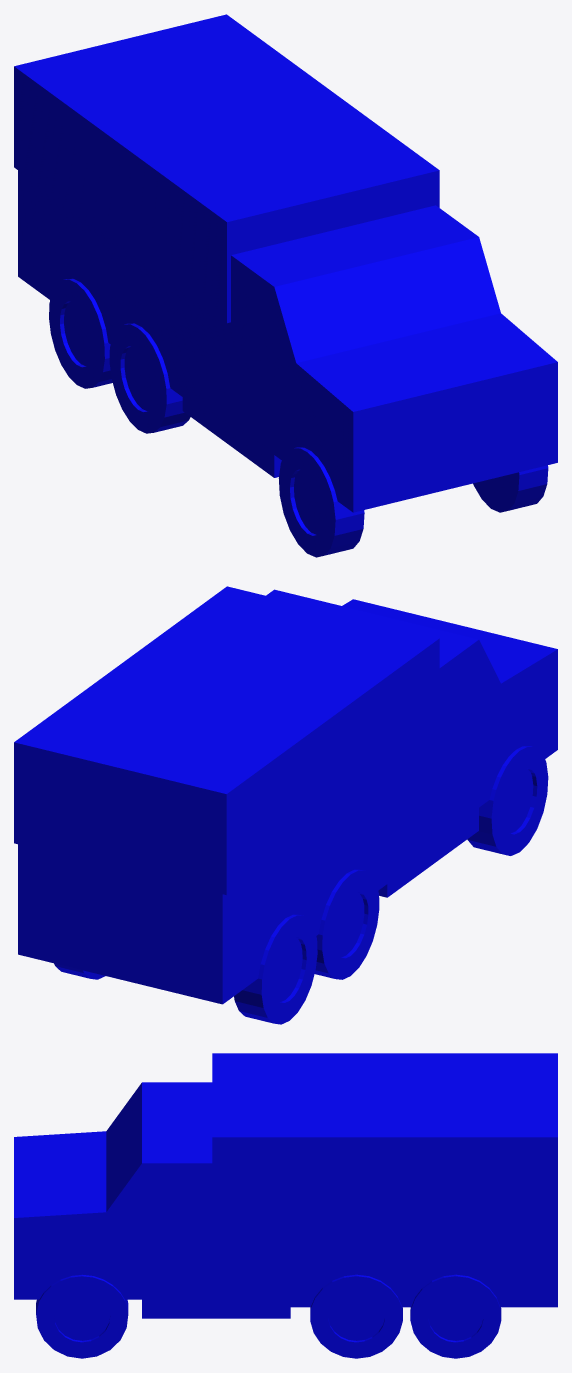
The model's file is Boardgame_Piece_Military_Modern_Truck_Blue_01.fbx.
3 renders of one model, top to bottom at view 1: azimuth 30°, elevation 25°; view 2: azimuth 150°, elevation 25°; view 3: azimuth 270°, elevation 25°, orthographic. The views are drawn at different scales.
Parts seen in each view (by area): view 1: Boardgame_Piece_Military_Modern_Truck_Blue_01; view 2: Boardgame_Piece_Military_Modern_Truck_Blue_01; view 3: Boardgame_Piece_Military_Modern_Truck_Blue_01.
Boxes of the visible parts, left/top/right/bottom form: Boardgame_Piece_Military_Modern_Truck_Blue_01: left=14, top=14, right=557, bottom=557; Boardgame_Piece_Military_Modern_Truck_Blue_01: left=14, top=586, right=557, bottom=1024; Boardgame_Piece_Military_Modern_Truck_Blue_01: left=14, top=1053, right=557, bottom=1358.
Bounding box in the file's own units: 643 × 787 × 1755.
